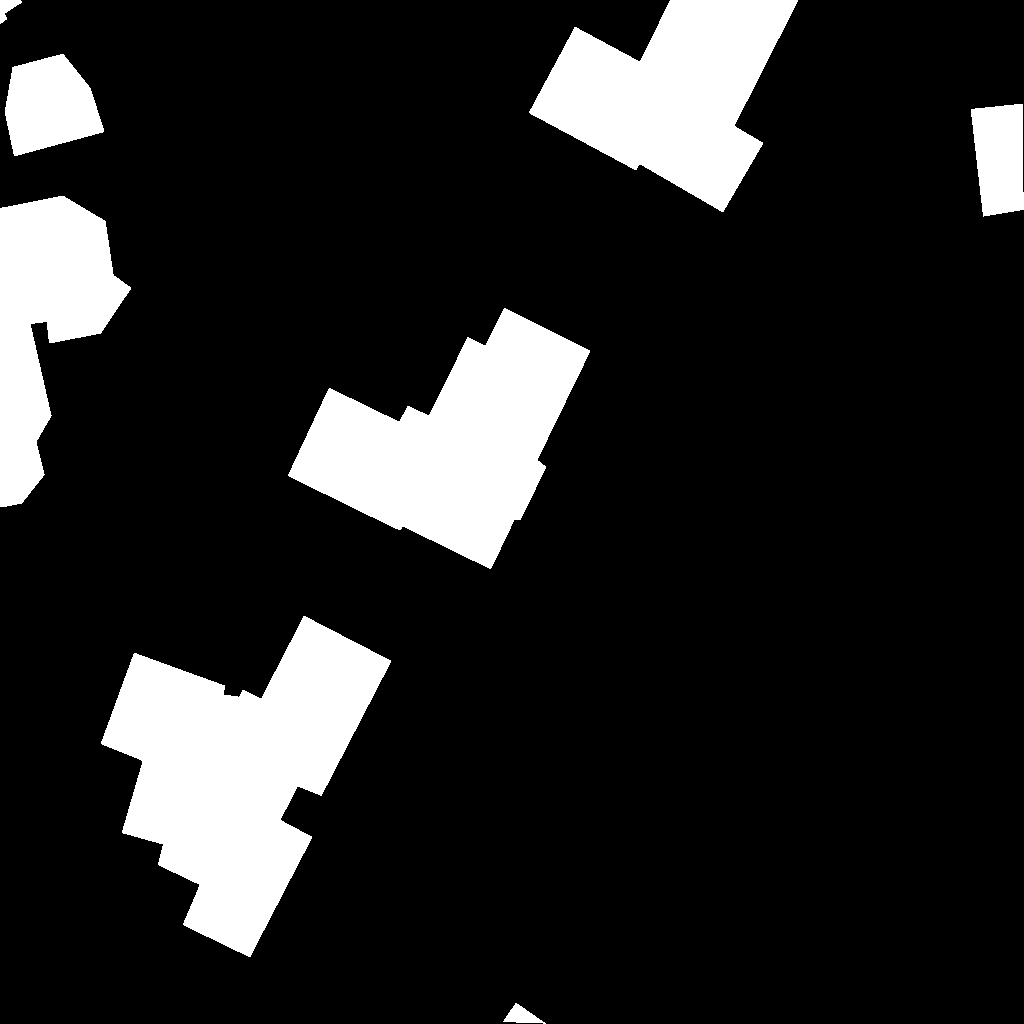building: (101, 616, 392, 958), (288, 308, 591, 570), (529, 0, 799, 213), (0, 196, 132, 508), (5, 54, 105, 157), (971, 104, 1024, 217), (503, 1003, 547, 1024), (0, 0, 23, 25)
